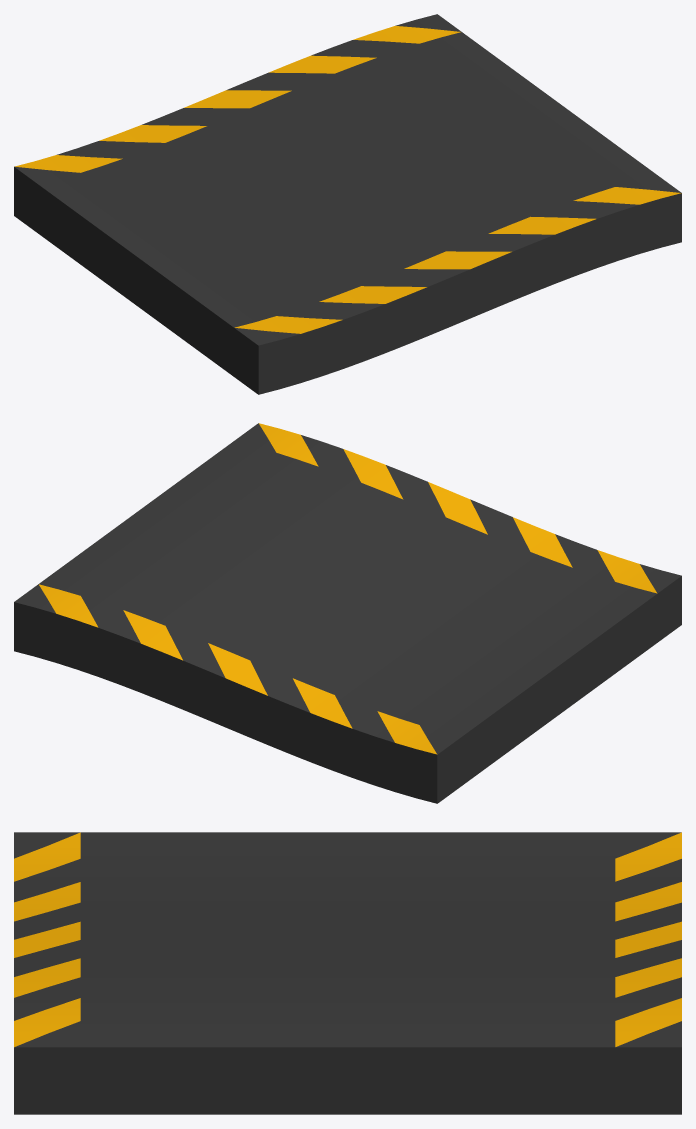
3 views of the same model, one above another, from view 1: azimuth 30°, elevation 25°; view 2: azimuth 150°, elevation 25°; view 3: azimuth 270°, elevation 25° (orthographic). The views are drawn at different scales.
Visible parts, largest first — view 1: c0; view 2: c0; view 3: c0.
Part boxes in pixels (x1,y1,x2,y2): c0: [14, 14, 681, 394]; c0: [14, 423, 681, 803]; c0: [14, 832, 681, 1114].
Size of the model in its own units: 9 by 2 by 9.
